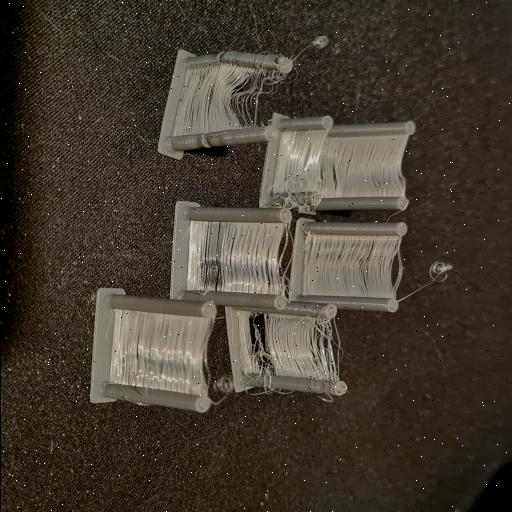stringing: (114, 310, 211, 394), (292, 128, 404, 200), (302, 231, 402, 303), (176, 62, 261, 140), (192, 218, 276, 296), (276, 314, 336, 382), (424, 259, 452, 291)
